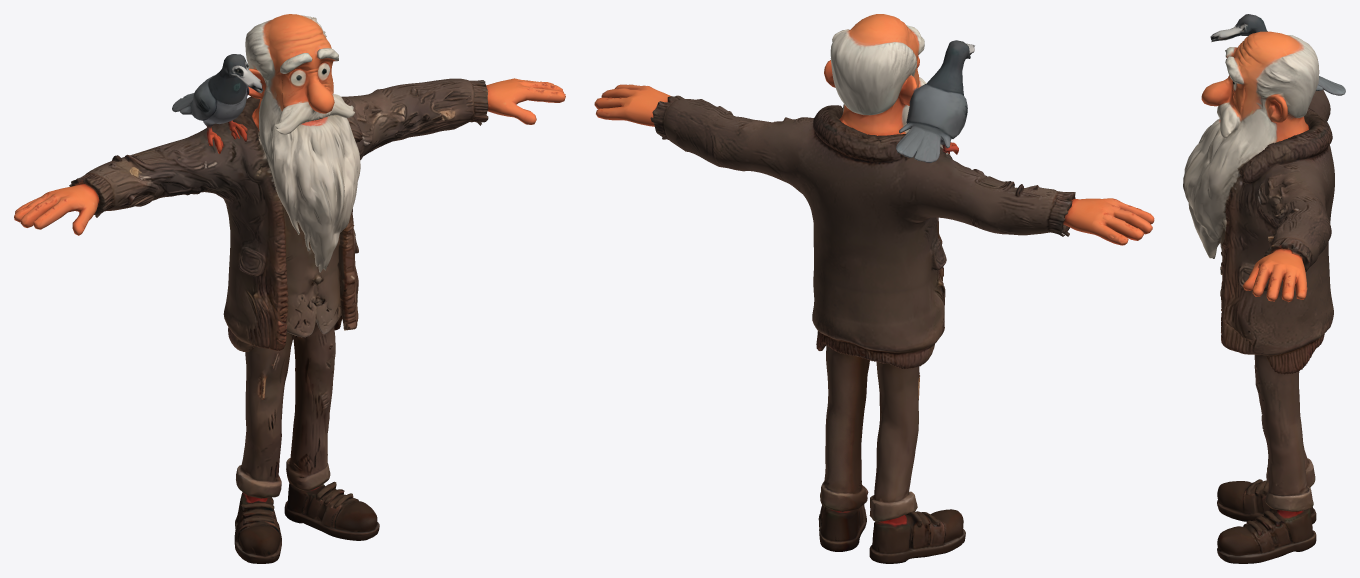
Rendered from old_reggie.glb.
3 views of the same model, side by side, from view 1: azimuth 30°, elevation 25°; view 2: azimuth 150°, elevation 25°; view 3: azimuth 270°, elevation 25° (orthographic). The views are drawn at different scales.
Visible parts, largest first — view 1: old_reggie; view 2: old_reggie; view 3: old_reggie.
Boxes of the visible parts, box(x1,y1,x2,y2) form: old_reggie: box(14, 14, 565, 563); old_reggie: box(594, 14, 1154, 563); old_reggie: box(1183, 14, 1345, 563).
Size of the model in its own units: 1.92 by 1.75 by 0.5166.
Materials: 1 (1 with a texture image).
